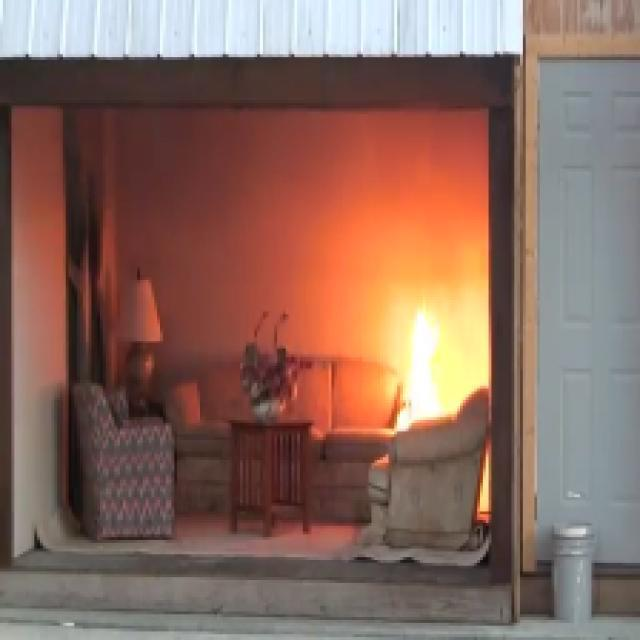Fire: (388, 308, 461, 418)
